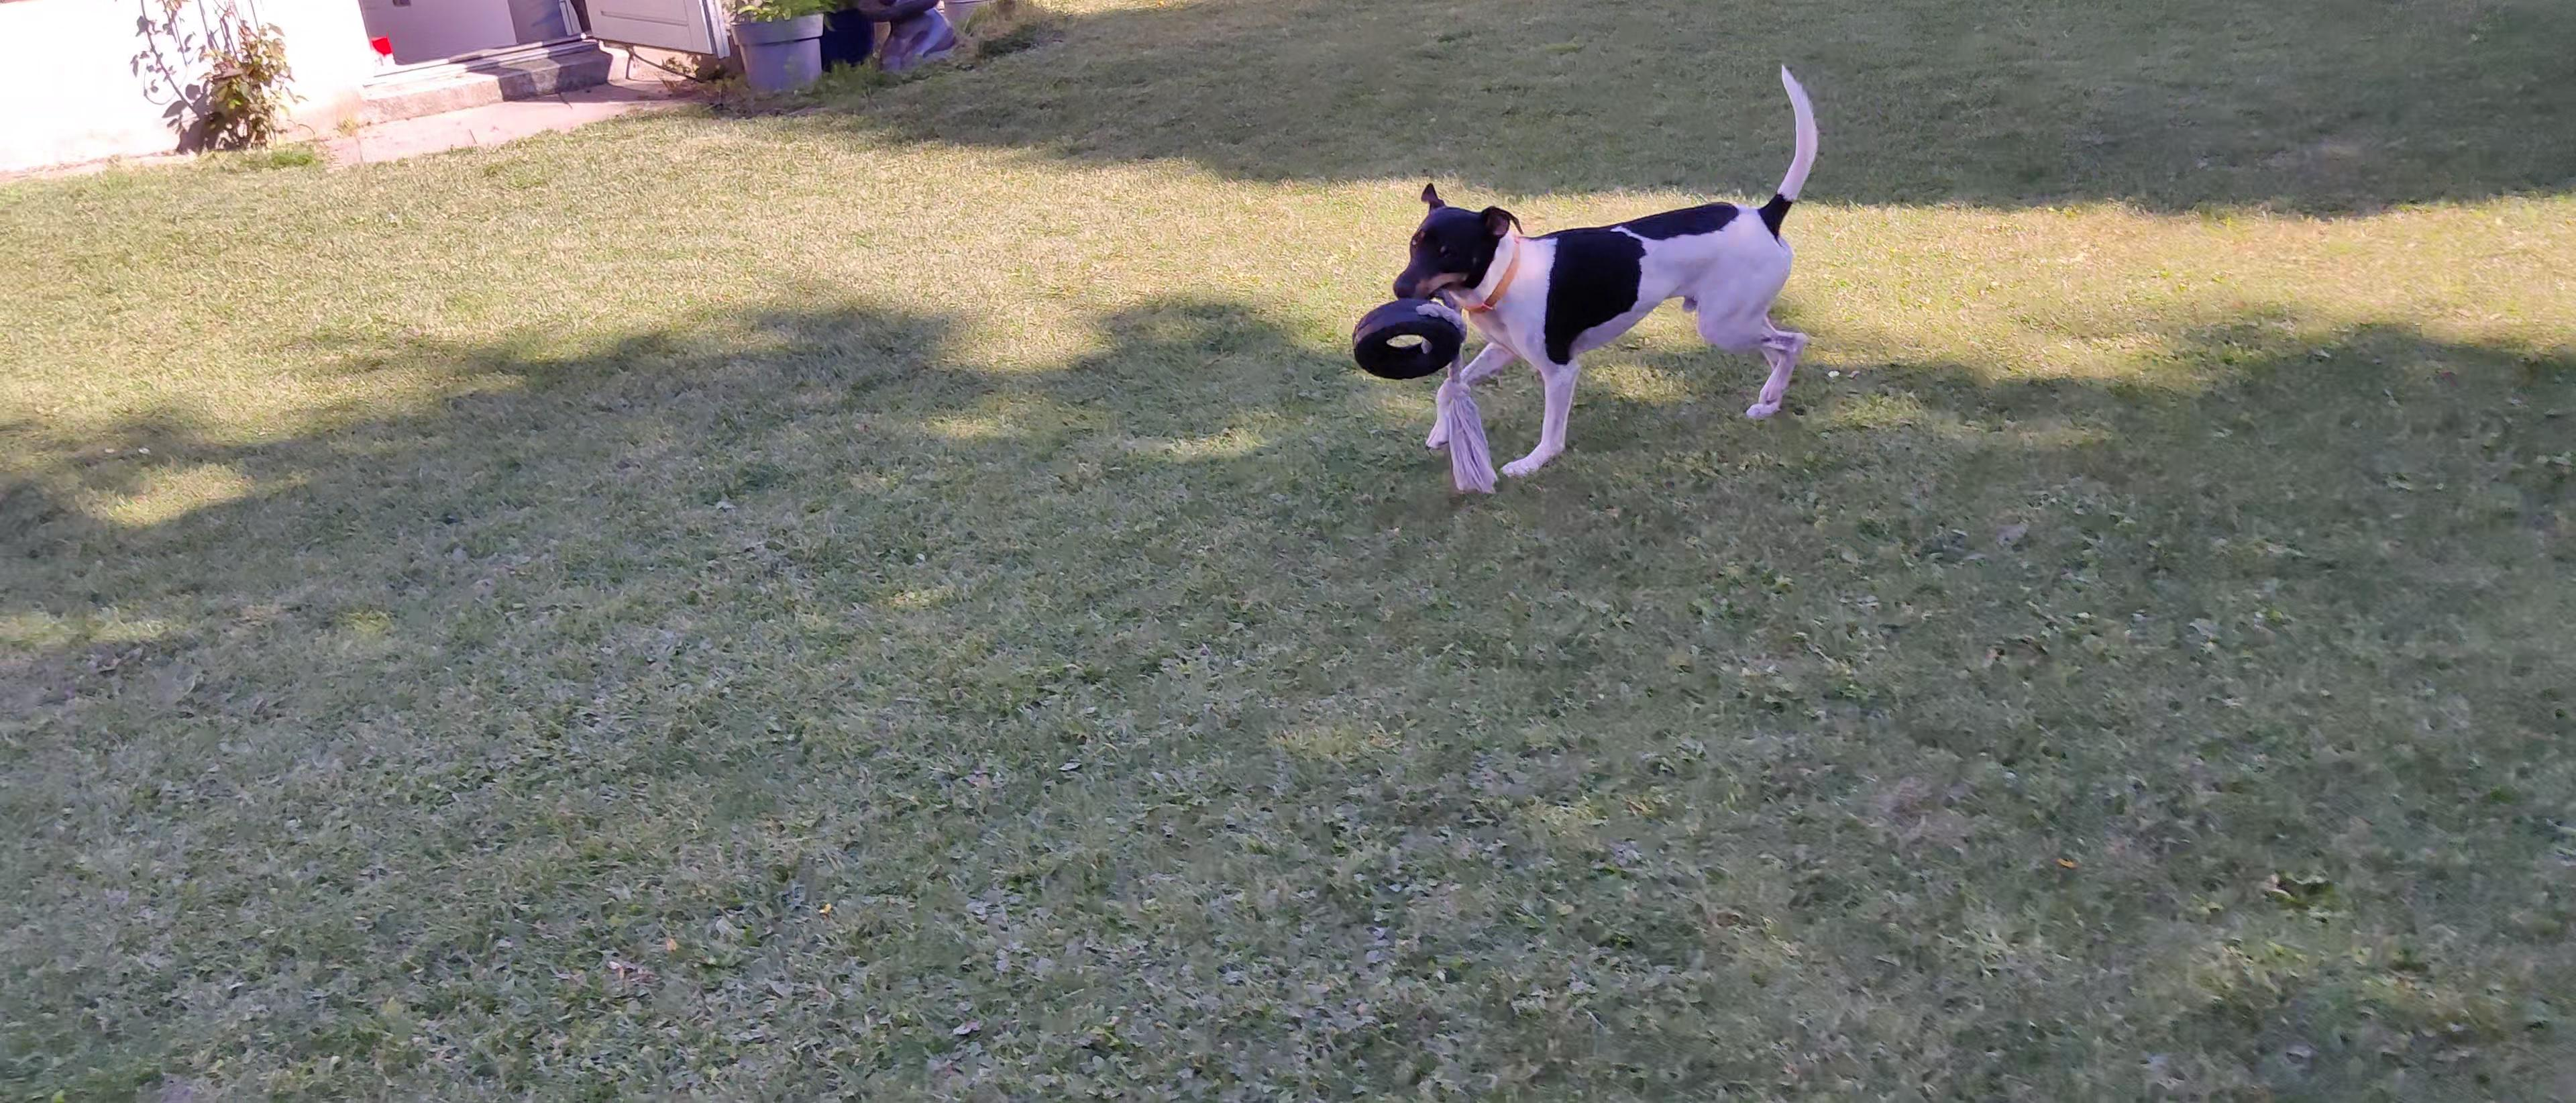Dog: (1383, 54, 1827, 480)
